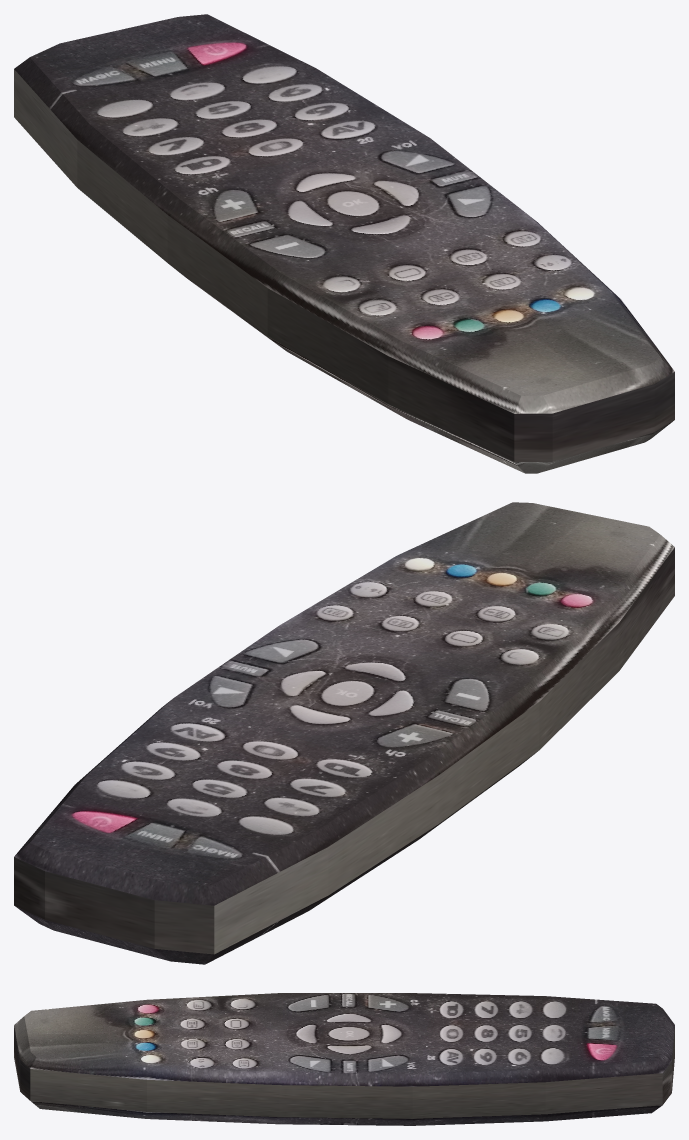
Rendered from tv remote.fbx.
3 views of the same model, one above another, from view 1: azimuth 30°, elevation 25°; view 2: azimuth 150°, elevation 25°; view 3: azimuth 270°, elevation 25° (orthographic). The views are drawn at different scales.
Visible parts, largest first — view 1: tv remote; view 2: tv remote; view 3: tv remote.
Part boxes in pixels (left/top/right/bottom): tv remote: left=14, top=14, right=674, bottom=473; tv remote: left=14, top=502, right=674, bottom=964; tv remote: left=14, top=993, right=674, bottom=1125.
Size of the model in its own units: 30.93 by 8.71 by 96.83.
Materials: 1 (1 with a texture image).
